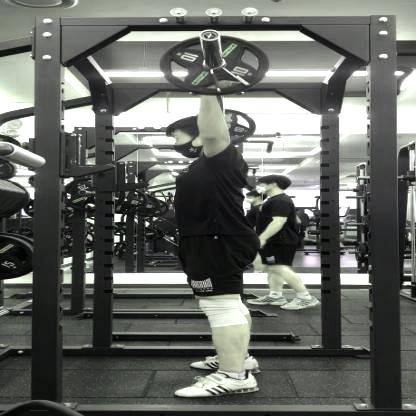Barbell: (199, 29, 224, 42)
